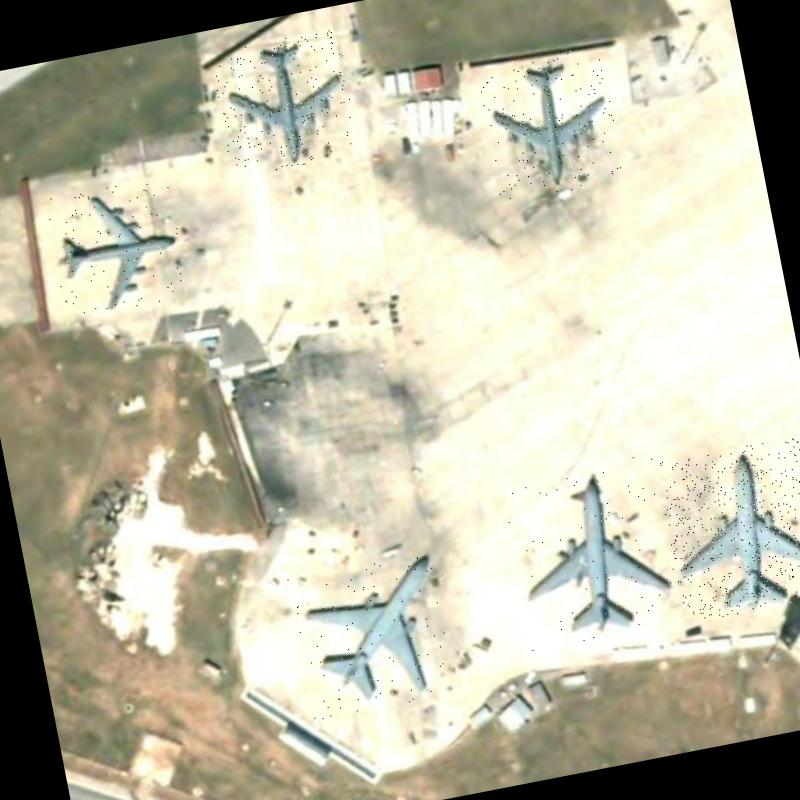A14: (475, 44, 625, 204), (208, 26, 361, 178), (43, 174, 190, 320)
A18: (499, 452, 684, 650), (285, 546, 457, 720), (654, 434, 800, 623)
